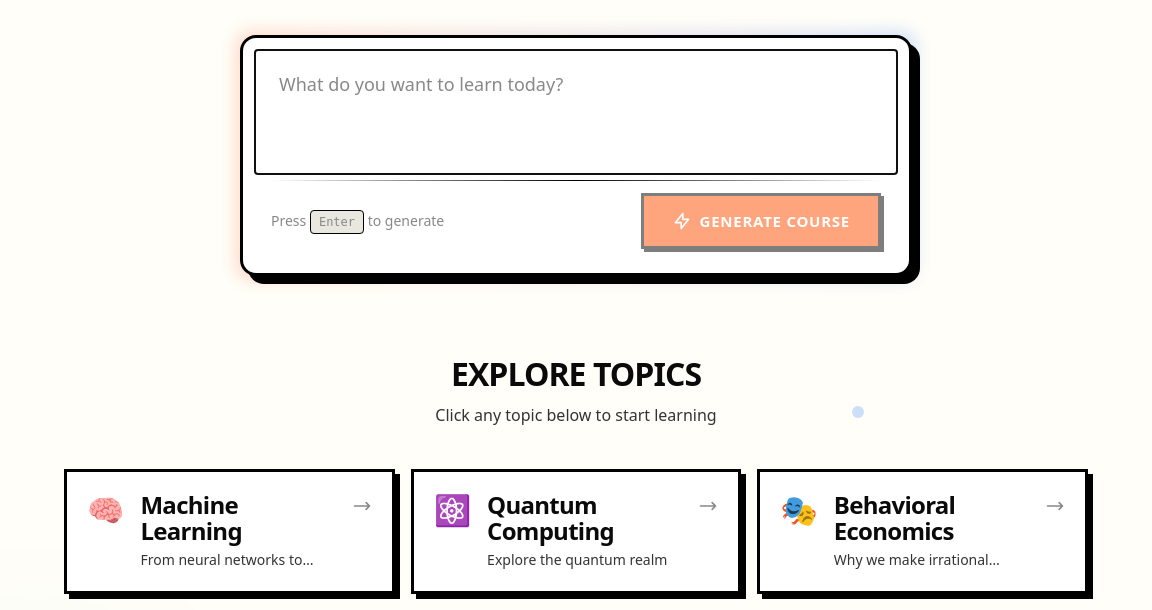
Home Page - Course Generation Flow › should show error message on generation failure
(page scrolled)
Type "Testing" into the text box with placeholder "What do you want to learn today?". click: (576, 112)
box: [255, 50, 897, 174]
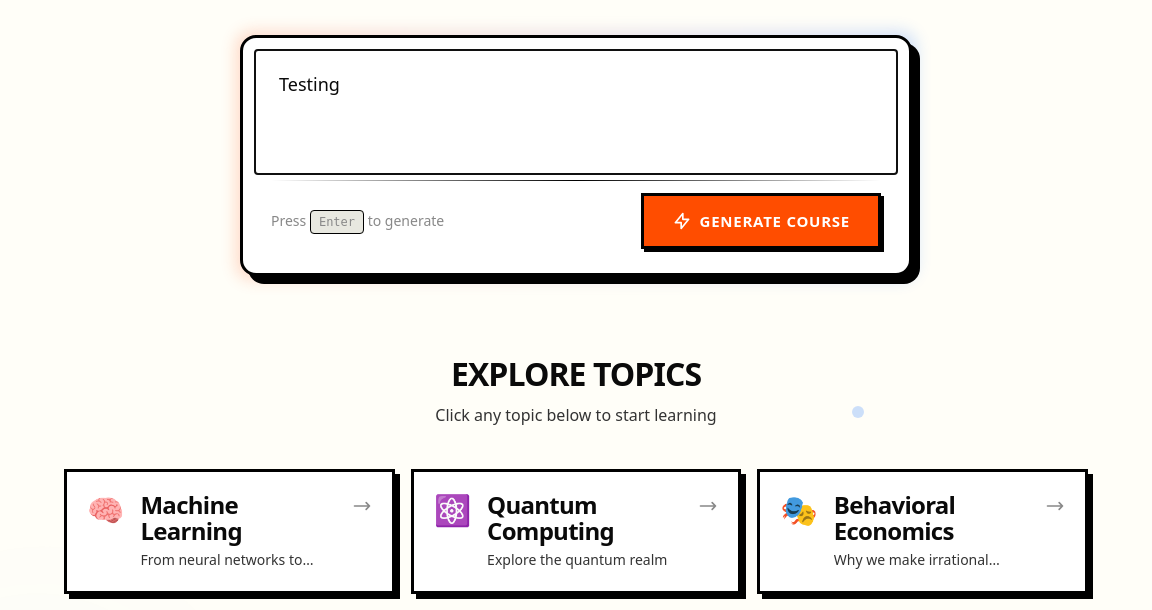
Click the button "Generate Course". click: (761, 221)
box: [641, 193, 881, 249]
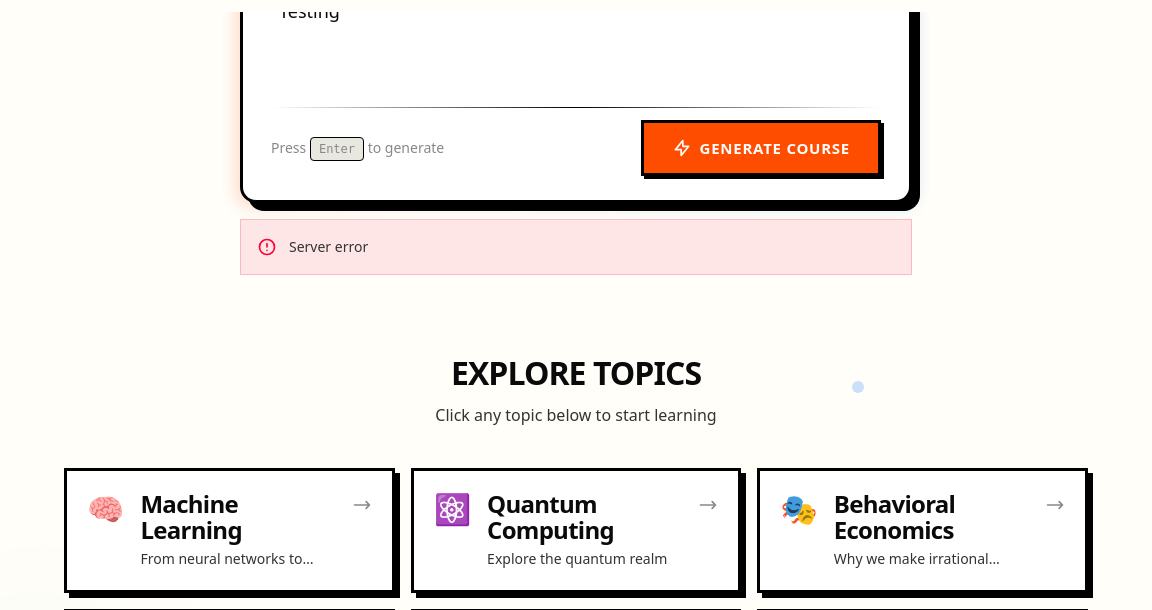
expect the text "Server error" is shown: met, box [289, 236, 368, 258]
